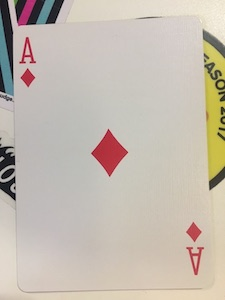AceOfDiamonds: (8, 12, 219, 295)
